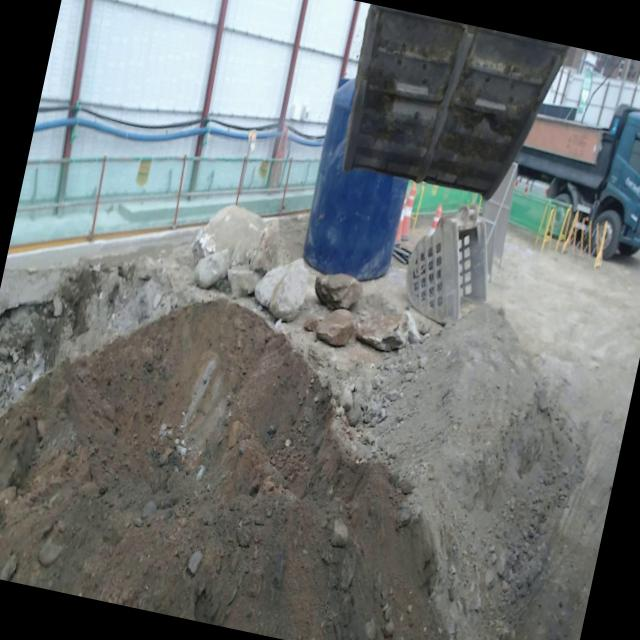red-sand: (0, 301, 439, 640)
stone: (200, 205, 285, 272), (254, 259, 308, 321), (355, 310, 418, 351), (314, 273, 362, 309), (314, 308, 354, 345), (194, 249, 229, 288), (227, 265, 260, 296)
white-sand: (358, 308, 586, 640)
